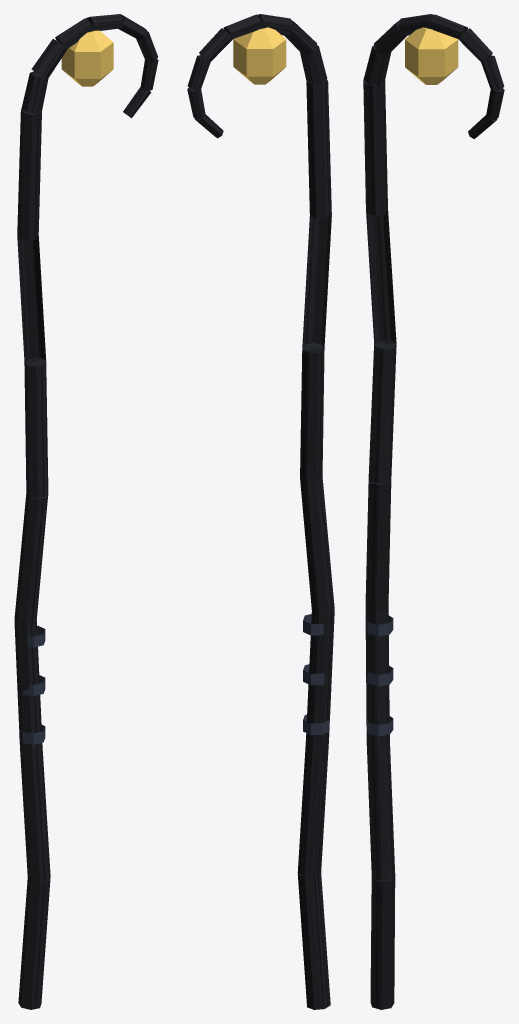
File: wpn_staff_rare.glb
3 views of the same model, side by side, from view 1: azimuth 30°, elevation 25°; view 2: azimuth 210°, elevation 25°; view 3: azimuth 330°, elevation 25° (orthographic). The views are drawn at different scales.
Visible parts, largest first — view 1: wpn_staff_rare; view 2: wpn_staff_rare; view 3: wpn_staff_rare.
Boxes of the visible parts, x1=… form: wpn_staff_rare: x1=14, y1=14, x2=158, y2=1009; wpn_staff_rare: x1=187, y1=14, x2=334, y2=1009; wpn_staff_rare: x1=363, y1=14, x2=504, y2=1009.
Bounding box in the file's own units: 0.3174 × 2.18 × 0.1044.
Materials: 3 (3 with a texture image).
